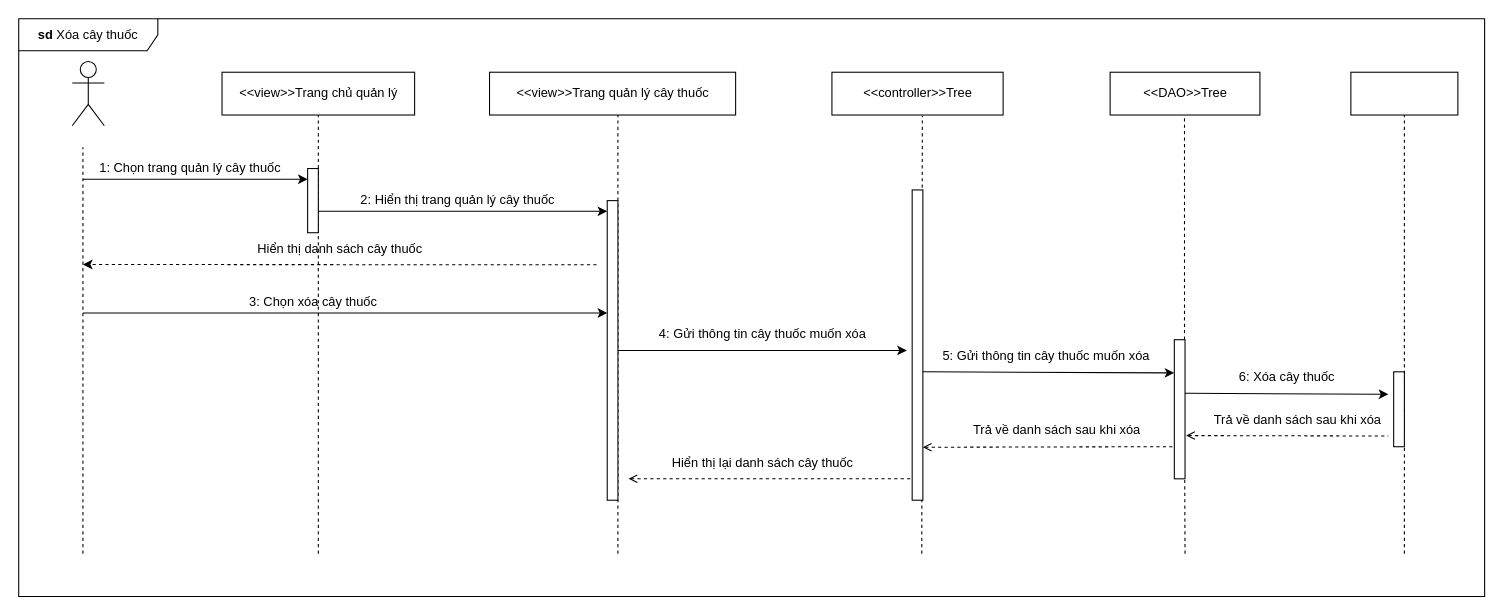
Image size: 1503x615. Some labels were removed from this diagram. The centre of each missing label's shape, as x and y in pixels:
"Database" belongs at (x=1404, y=93).
"Quản lý" belongs at (x=87, y=93).
